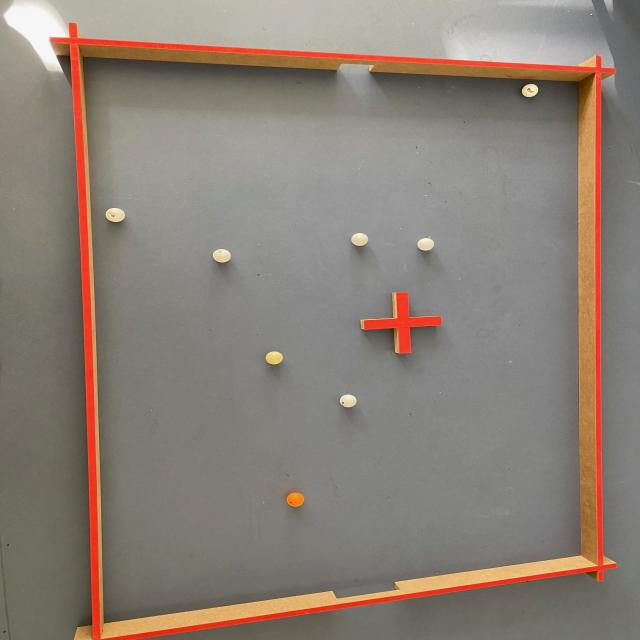obstacle: (582, 51, 624, 590), (62, 16, 98, 640), (357, 288, 448, 359)
orange-golf-balls: (282, 490, 309, 511)
white-golf-balls: (261, 348, 289, 371), (519, 80, 545, 102), (210, 246, 232, 268), (337, 392, 361, 411), (103, 206, 128, 224), (415, 236, 439, 253), (352, 231, 371, 249)
